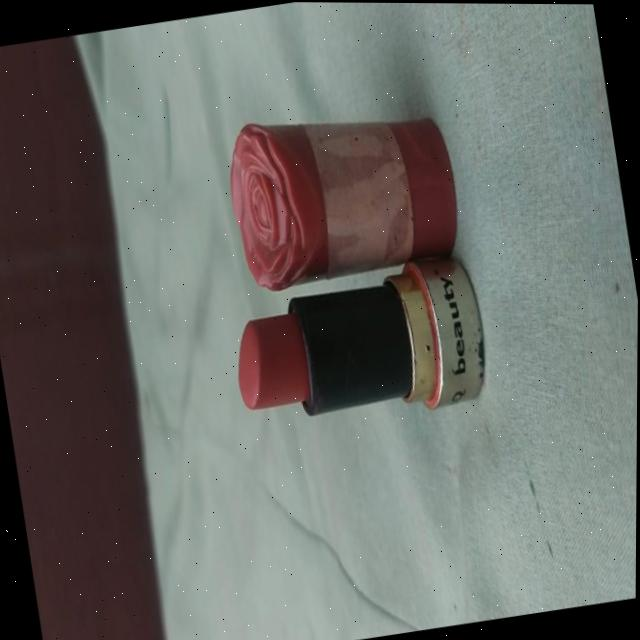lip stick: (189, 89, 502, 436)
